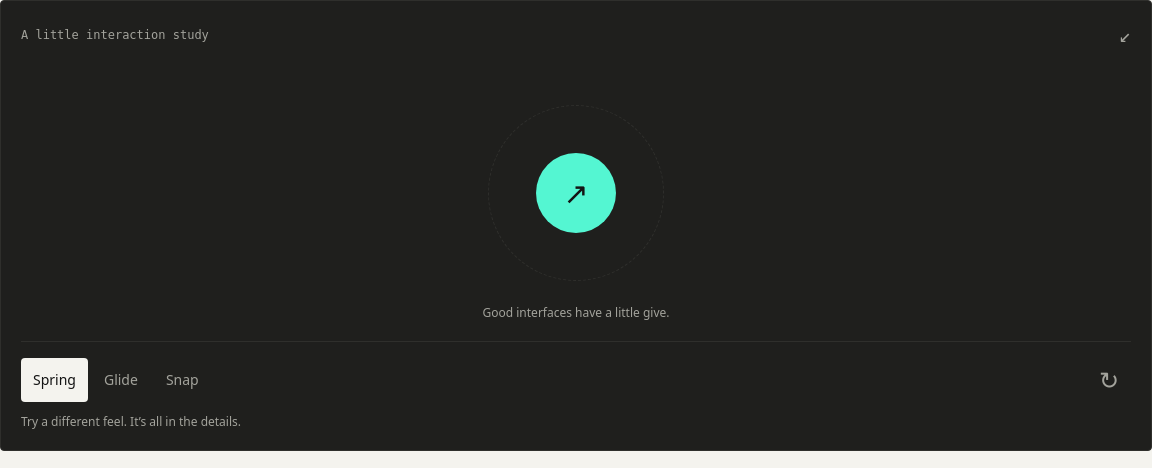
Scenario: GIVEN the MotionStudy component › WHEN the person picks the snap style › AND reduced motion is on › THEN it is expected to stay still and say why
The width and height of the screenshot is (1152, 468).
Click the button "Snap".
click(182, 380)  # box x1=154 y1=358 x2=211 y2=402
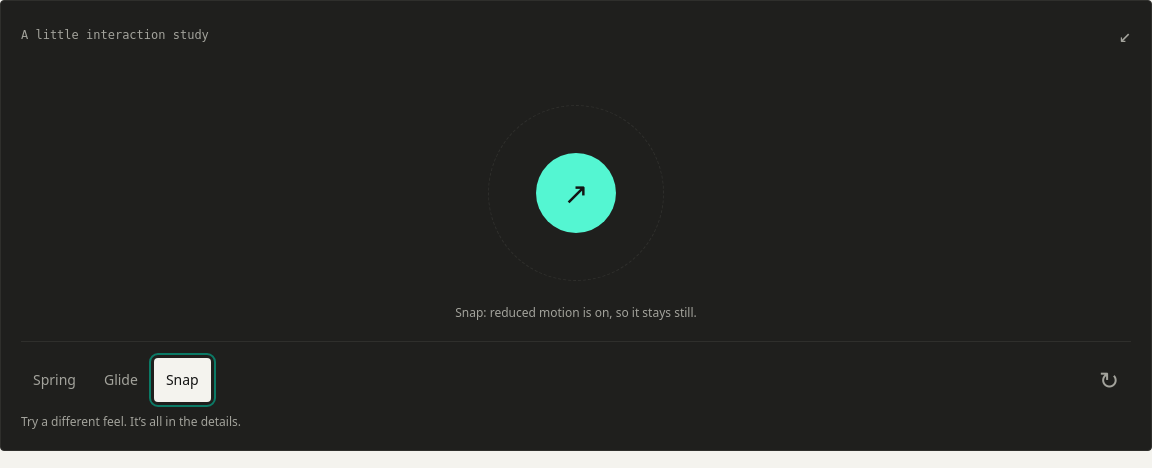
expect the text "Snap: reduced motion is on, so it stays still." is shown: met, box x1=455 y1=305 x2=697 y2=321
